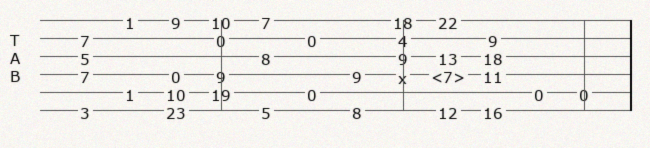0: (171, 67, 185, 82), (216, 31, 230, 46), (307, 85, 321, 100), (307, 31, 321, 46), (534, 85, 548, 100), (579, 85, 593, 100)
1: (125, 85, 139, 100), (125, 13, 139, 28)
10: (166, 85, 190, 100), (211, 13, 235, 28)
11: (483, 67, 507, 82)
12: (438, 103, 462, 118)
13: (438, 49, 462, 64)
16: (483, 103, 507, 118)
18: (393, 13, 417, 28), (483, 49, 507, 64)
19: (211, 85, 235, 100)
22: (438, 13, 462, 28)
23: (166, 103, 190, 118)
3: (80, 103, 94, 118)
4: (398, 31, 412, 46)
5: (80, 49, 94, 64), (261, 103, 275, 118)
7: (80, 67, 94, 82), (80, 31, 94, 46), (261, 13, 275, 28)
8: (261, 49, 275, 64), (352, 103, 366, 118)
9: (171, 13, 185, 28), (216, 67, 230, 82), (352, 67, 366, 82), (398, 49, 412, 64), (488, 31, 502, 46)
harmonic: (431, 67, 469, 82)
x: (398, 68, 411, 80)
